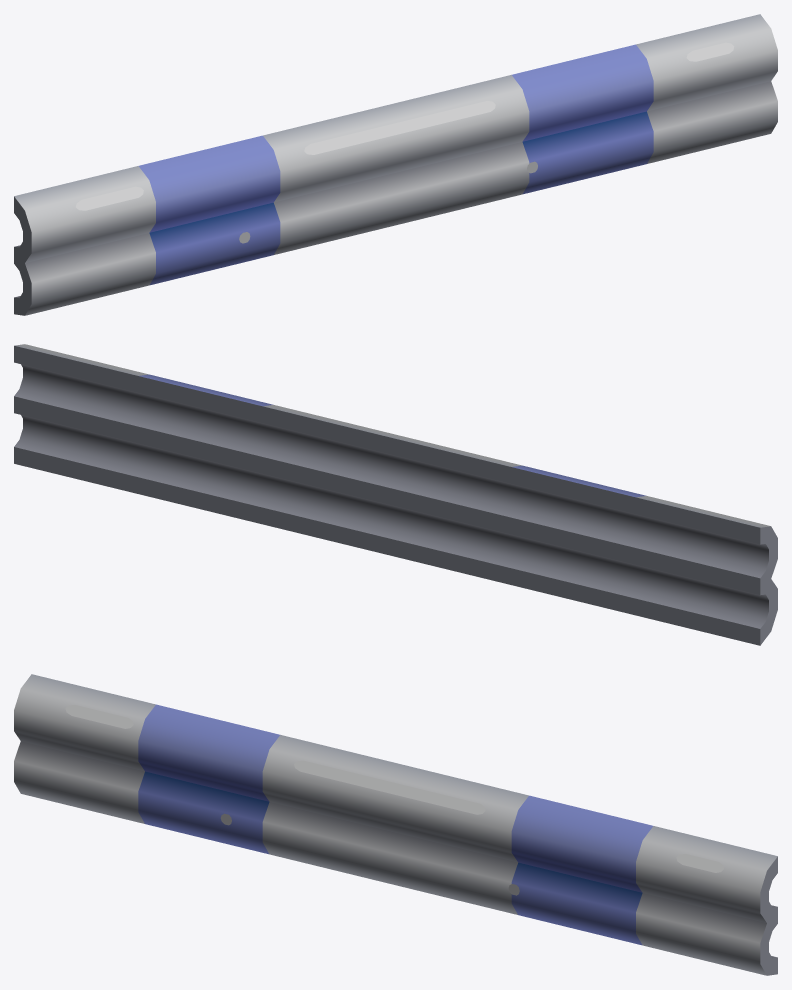
The model's file is LargePanelBlue.glb.
3 renders of one model, top to bottom at view 1: azimuth 30°, elevation 25°; view 2: azimuth 150°, elevation 25°; view 3: azimuth 330°, elevation 25°, orthographic.
Parts seen in each view (by area): view 1: LargePanelBlue; view 2: LargePanelBlue; view 3: LargePanelBlue.
Part boxes in pixels (<box>): LargePanelBlue: <box>14,14,777,315</box>; LargePanelBlue: <box>14,344,777,645</box>; LargePanelBlue: <box>14,674,777,975</box>.
Bounding box in the file's own units: 2.17 × 0.3274 × 0.0908.
